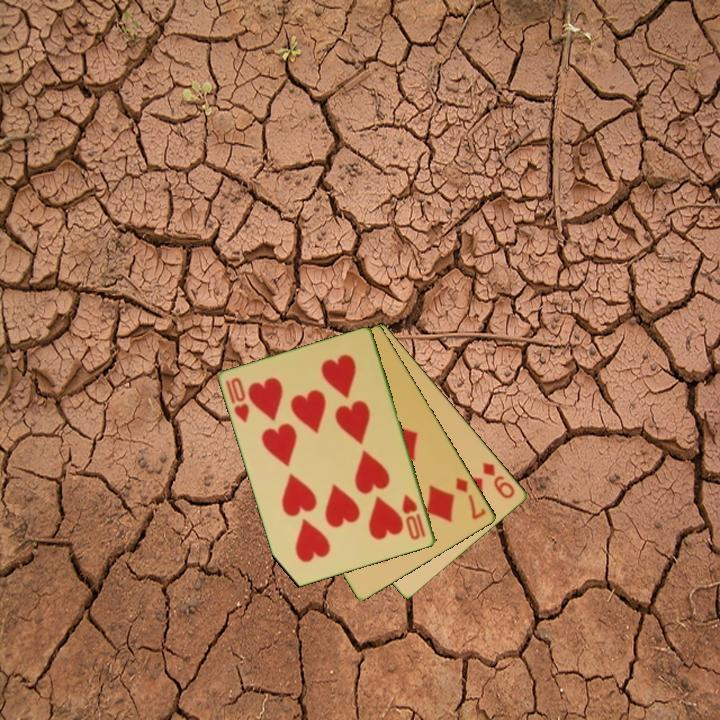10h: (399, 491, 429, 543), (222, 374, 252, 426)
7d: (452, 474, 489, 523)
9d: (479, 459, 518, 502)
